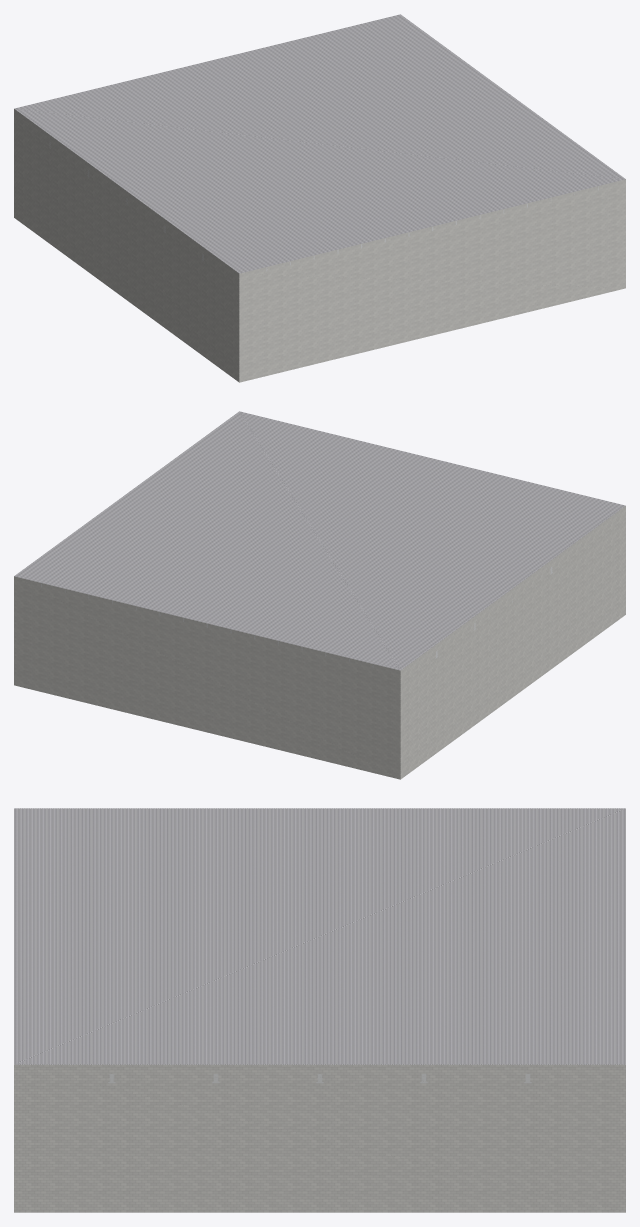
The model's file is gym_classic.glb.
3 views of the same model, one above another, from view 1: azimuth 30°, elevation 25°; view 2: azimuth 150°, elevation 25°; view 3: azimuth 270°, elevation 25° (orthographic). The views are drawn at different scales.
Parts seen in each view (by area): view 1: M_Roof, M_Wall_CMU; view 2: M_Roof, M_Wall_CMU; view 3: M_Roof, M_Wall_CMU.
Part boxes in pixels (x1,y1,x2,y2): M_Roof: [14, 14, 625, 273]; M_Wall_CMU: [14, 109, 625, 382]; M_Roof: [14, 411, 625, 670]; M_Wall_CMU: [14, 506, 625, 779]; M_Roof: [14, 808, 625, 1064]; M_Wall_CMU: [14, 1064, 625, 1212].
Size of the model in its own units: 40.8 by 11 by 41.2.
Materials: 17 (4 with a texture image).
